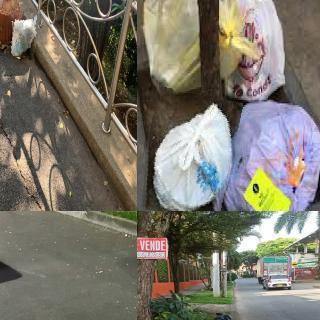Garbage: (140, 90, 237, 211), (223, 101, 320, 211), (141, 0, 246, 90), (227, 0, 290, 100), (9, 11, 41, 59), (214, 310, 233, 320), (113, 211, 129, 216)
